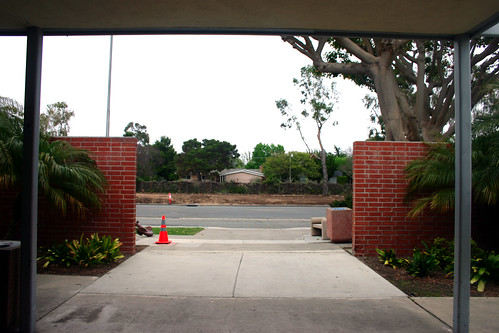building: (216, 164, 266, 189)
sky: (53, 28, 369, 137)
street: (138, 202, 335, 227)
traffic cone: (152, 214, 171, 246), (163, 188, 178, 207)
tree: (308, 32, 476, 143)
vegetation: (133, 136, 348, 194)
